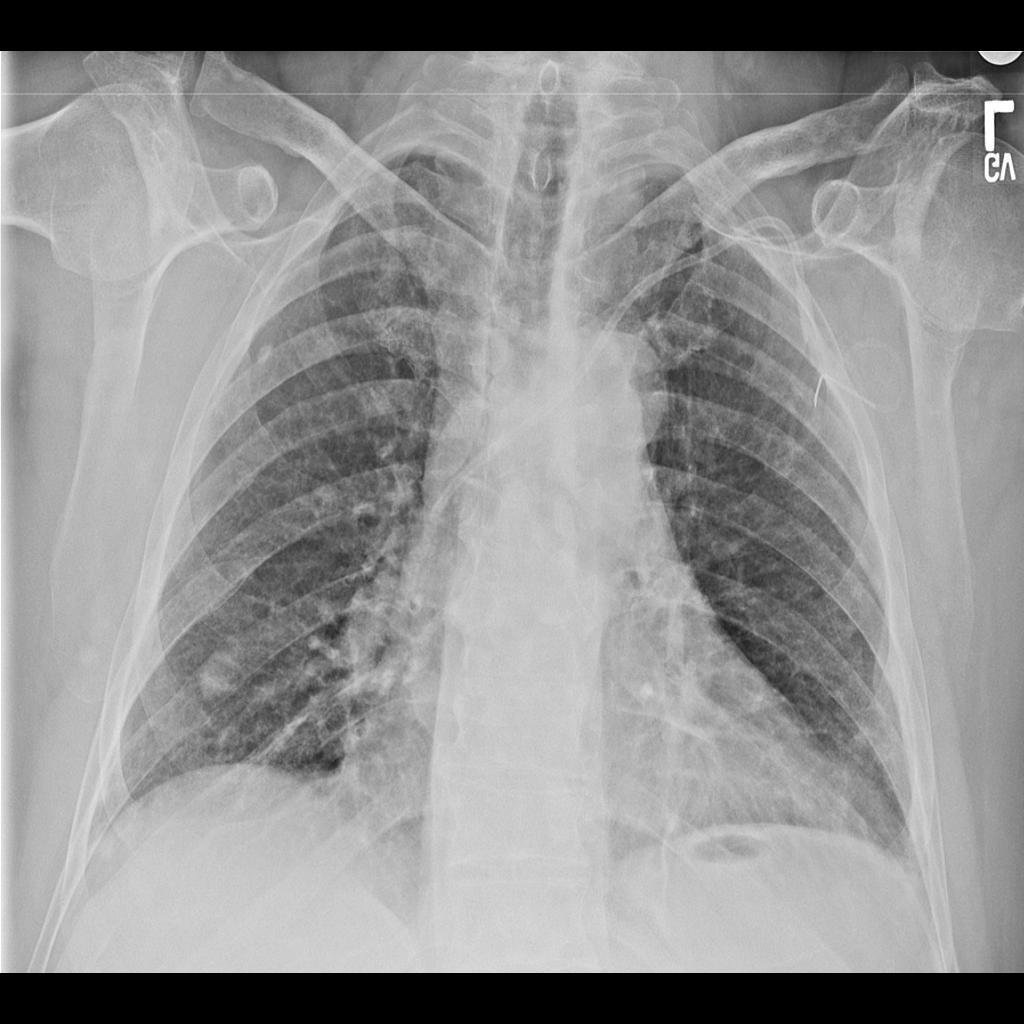Nodule: (197, 649, 243, 701)
